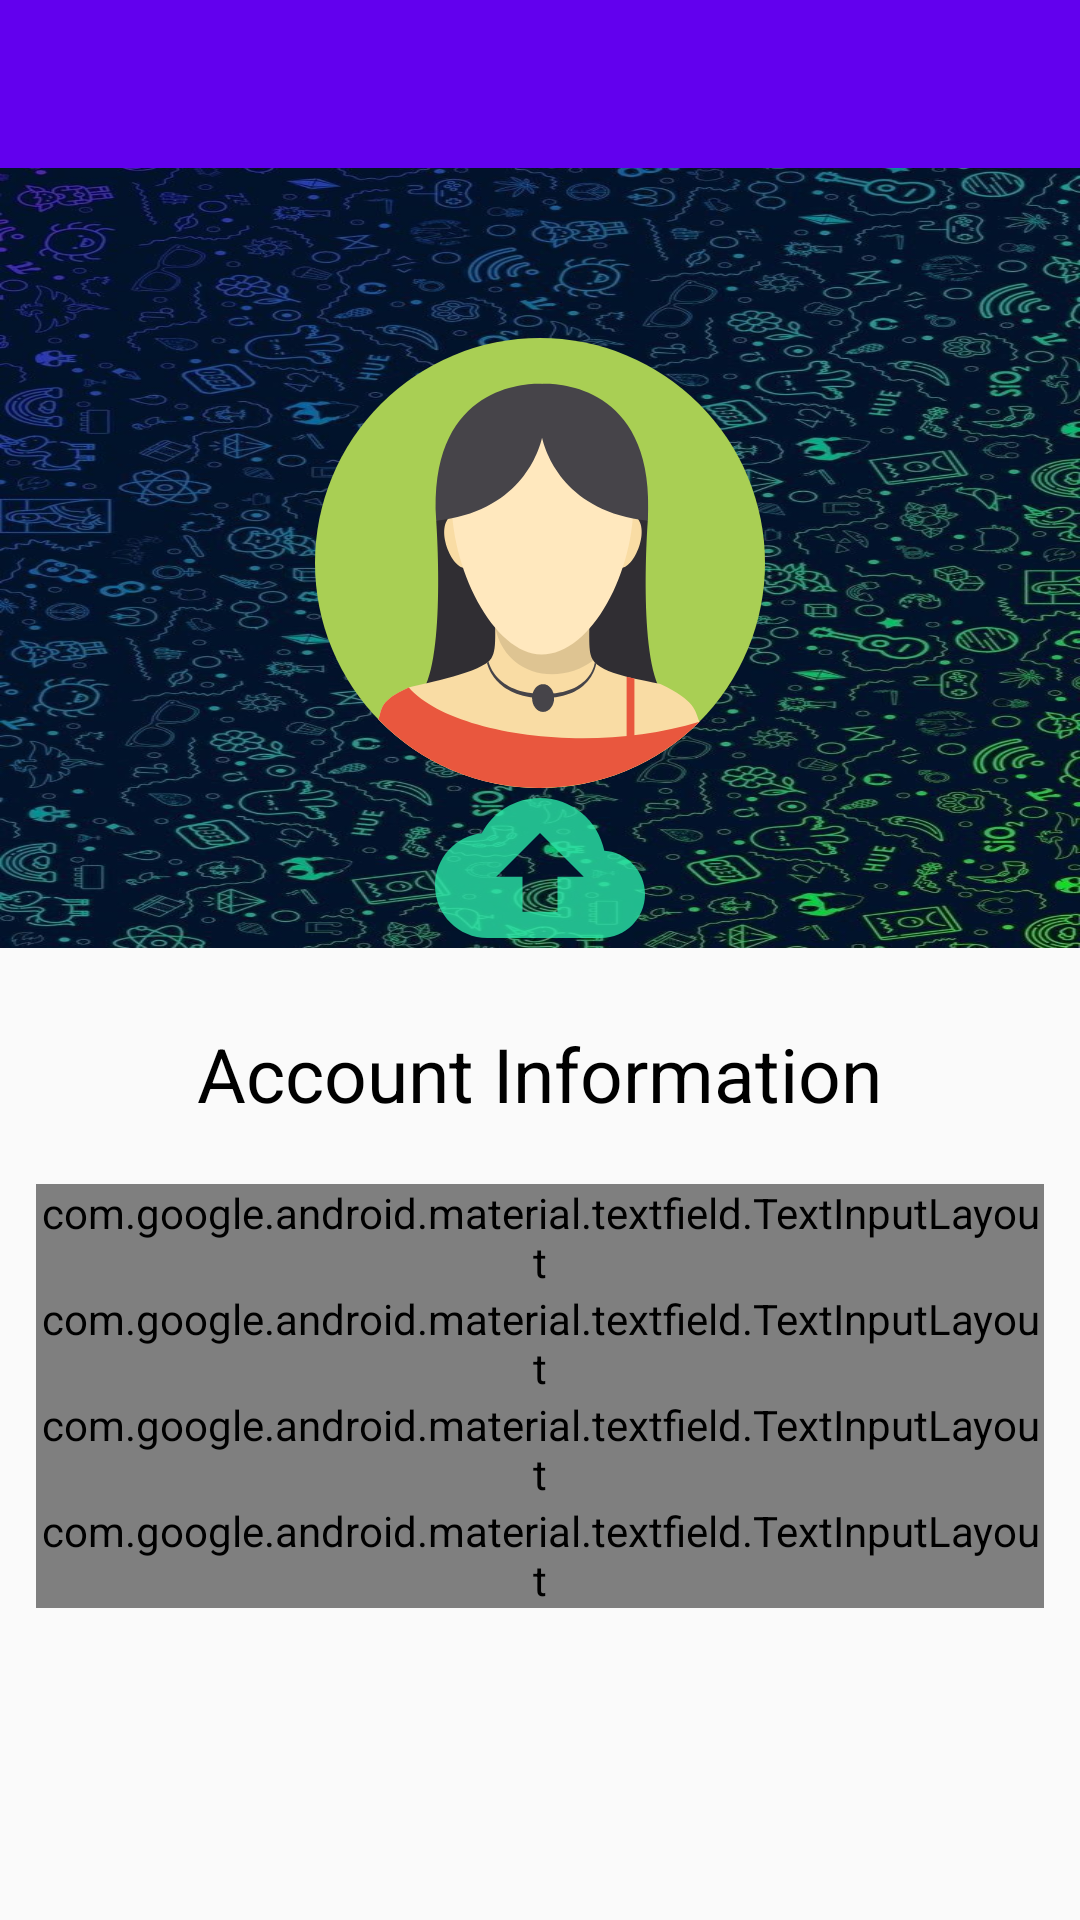

Screen size 1080*1920. Icon name, then its center in pixels as (x,y):
upload: (540,868)
